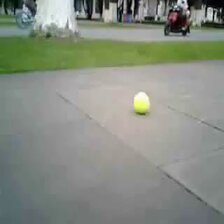tennis: (133, 91, 150, 115)
